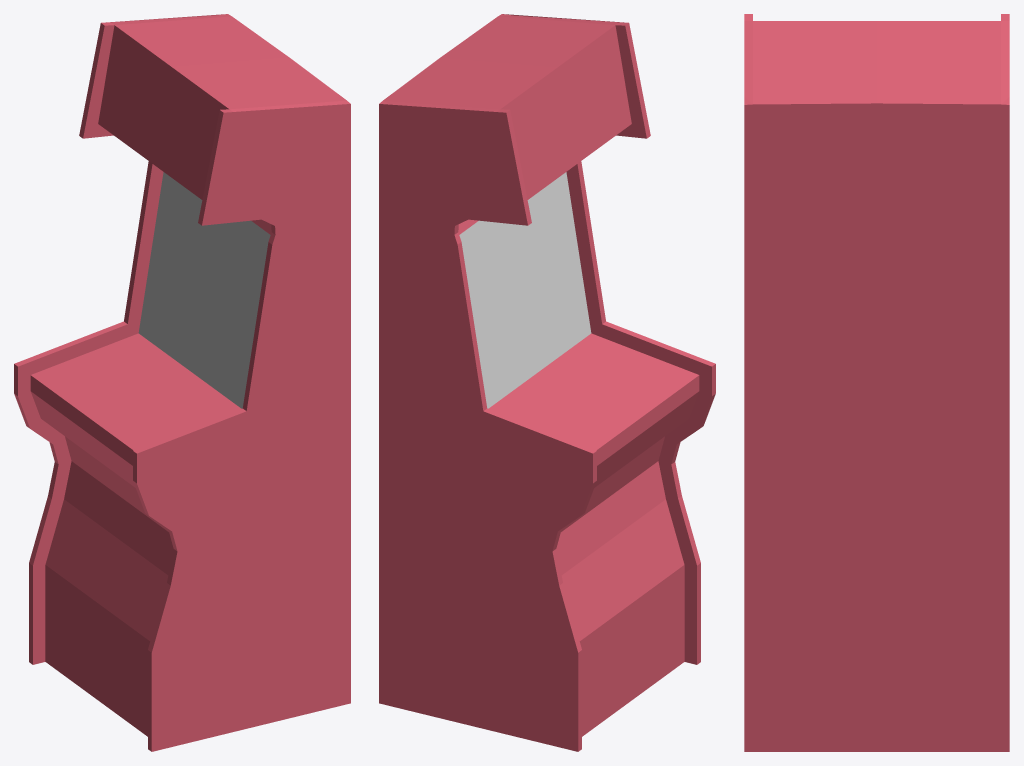
Rendered from TempArcadeMachine.fbx.
3 views of the same model, side by side, from view 1: azimuth 30°, elevation 25°; view 2: azimuth 150°, elevation 25°; view 3: azimuth 270°, elevation 25° (orthographic). The views are drawn at different scales.
Parts seen in each view (by area): view 1: ArcadeMachine; view 2: ArcadeMachine; view 3: ArcadeMachine.
Boxes of the visible parts, box(x1,y1,x2,y2) form: ArcadeMachine: box(14, 14, 350, 751); ArcadeMachine: box(379, 14, 715, 751); ArcadeMachine: box(744, 14, 1009, 751).
Bounding box in the file's own units: 215 × 597 × 214.
